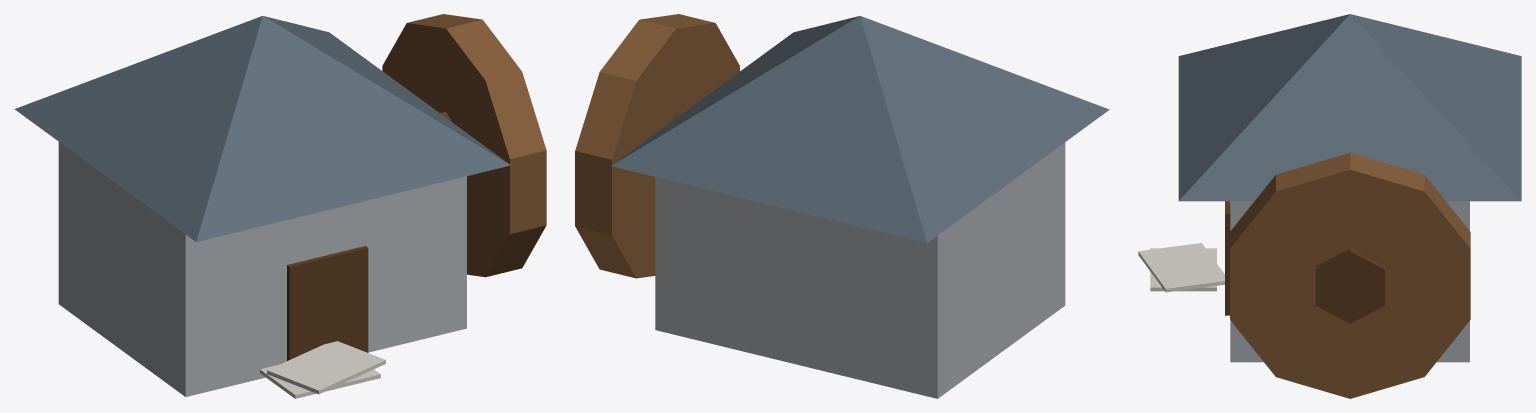
The model's file is paper-mill.glb.
3 views of the same model, side by side, from view 1: azimuth 30°, elevation 25°; view 2: azimuth 150°, elevation 25°; view 3: azimuth 270°, elevation 25° (orthographic). The views are drawn at different scales.
Parts seen in each view (by area): view 1: paper_mill; view 2: paper_mill; view 3: paper_mill.
Boxes of the visible parts, left/top/right/bottom form: paper_mill: left=14, top=14, right=546, bottom=398; paper_mill: left=575, top=14, right=1109, bottom=398; paper_mill: left=1138, top=14, right=1521, bottom=398.
Bounding box in the file's own units: 0.3148 × 0.235 × 0.288.
